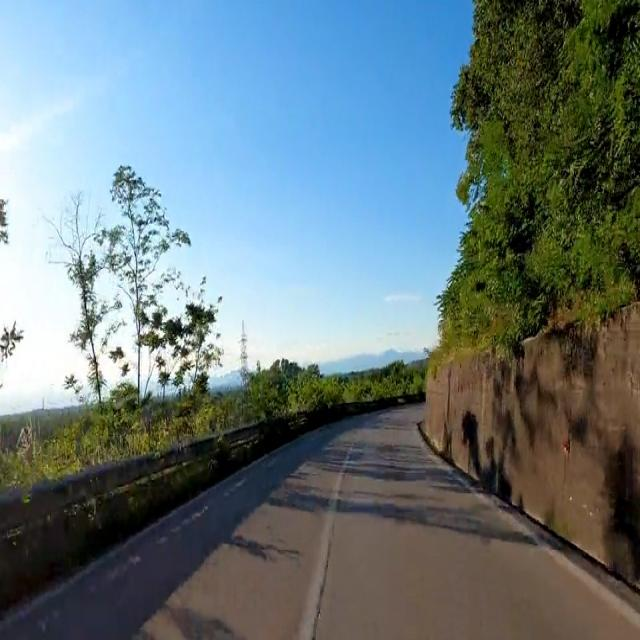lane: (0, 404, 639, 638), (298, 441, 354, 639)
road: (0, 404, 639, 638)
